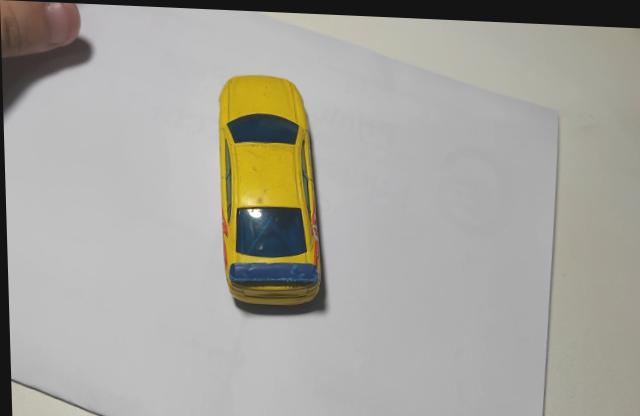02_OZSOME: (218, 73, 326, 315)
